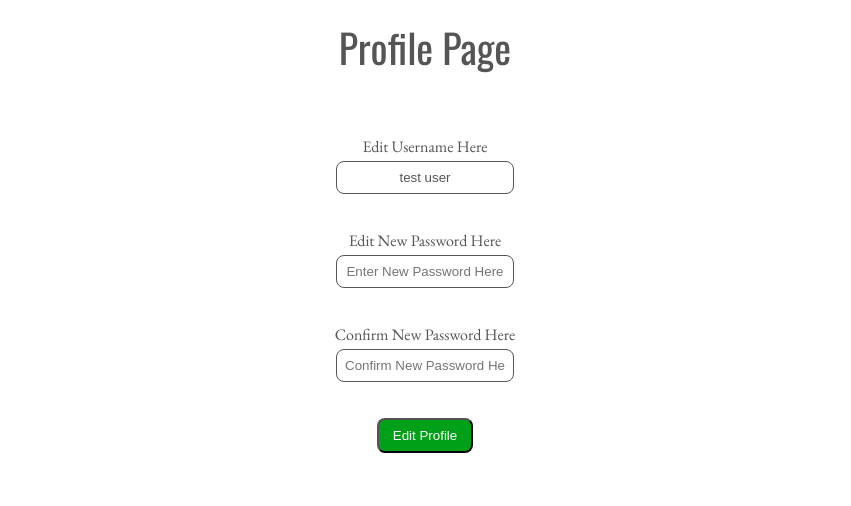
Test case: <ClientProfilePage/> › Update user name and password success
Replace the text in the field with test id "Edit Username HereTextInput" with "test user changed": (425, 177) [336, 161, 514, 194]
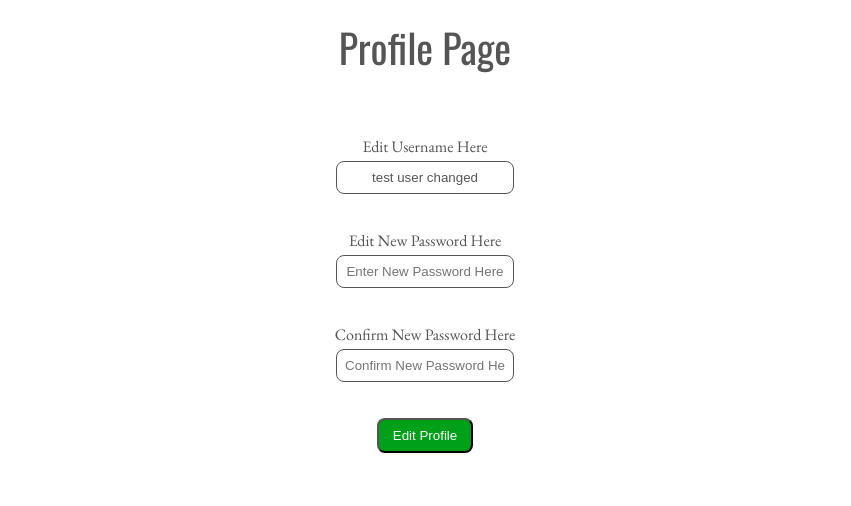
In the password field with test id "Edit New Password HereTextInput": (425, 271) [336, 255, 514, 288], type "new password"
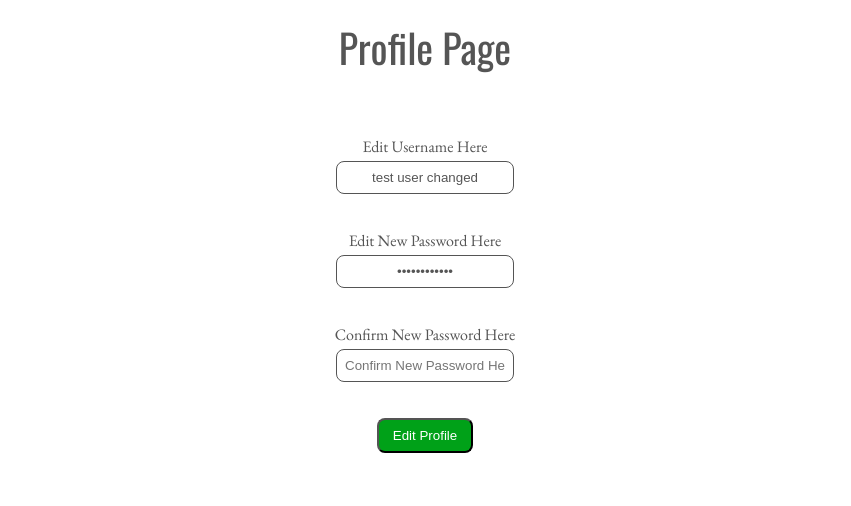
In the password field with test id "Confirm New Password HereTextInput": (425, 365) [336, 349, 514, 382], type "new password"
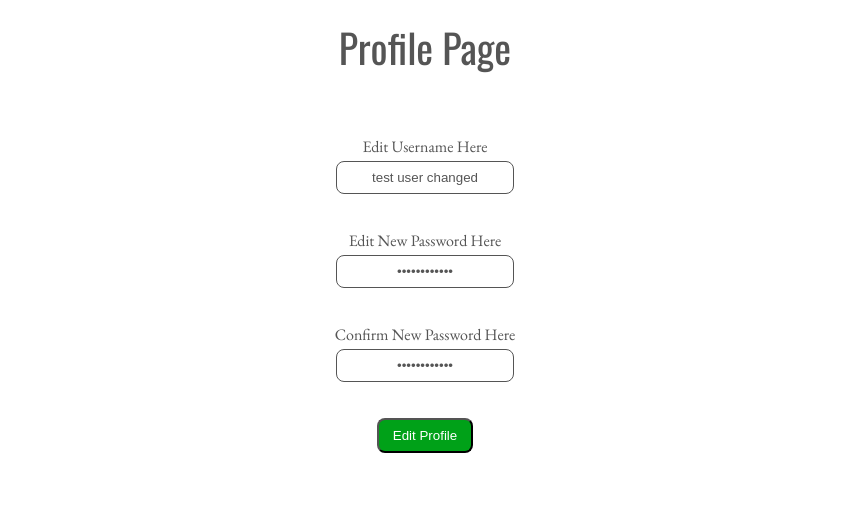
Click the button with test id "Edit ProfileButton": (425, 435) [377, 418, 473, 453]
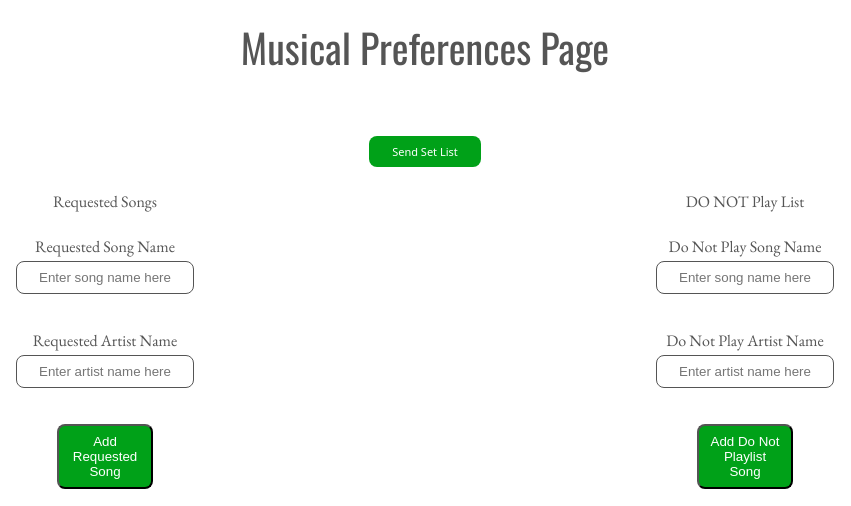
Now the heading "Musical Preferences Page" is shown, box [241, 17, 609, 77]
